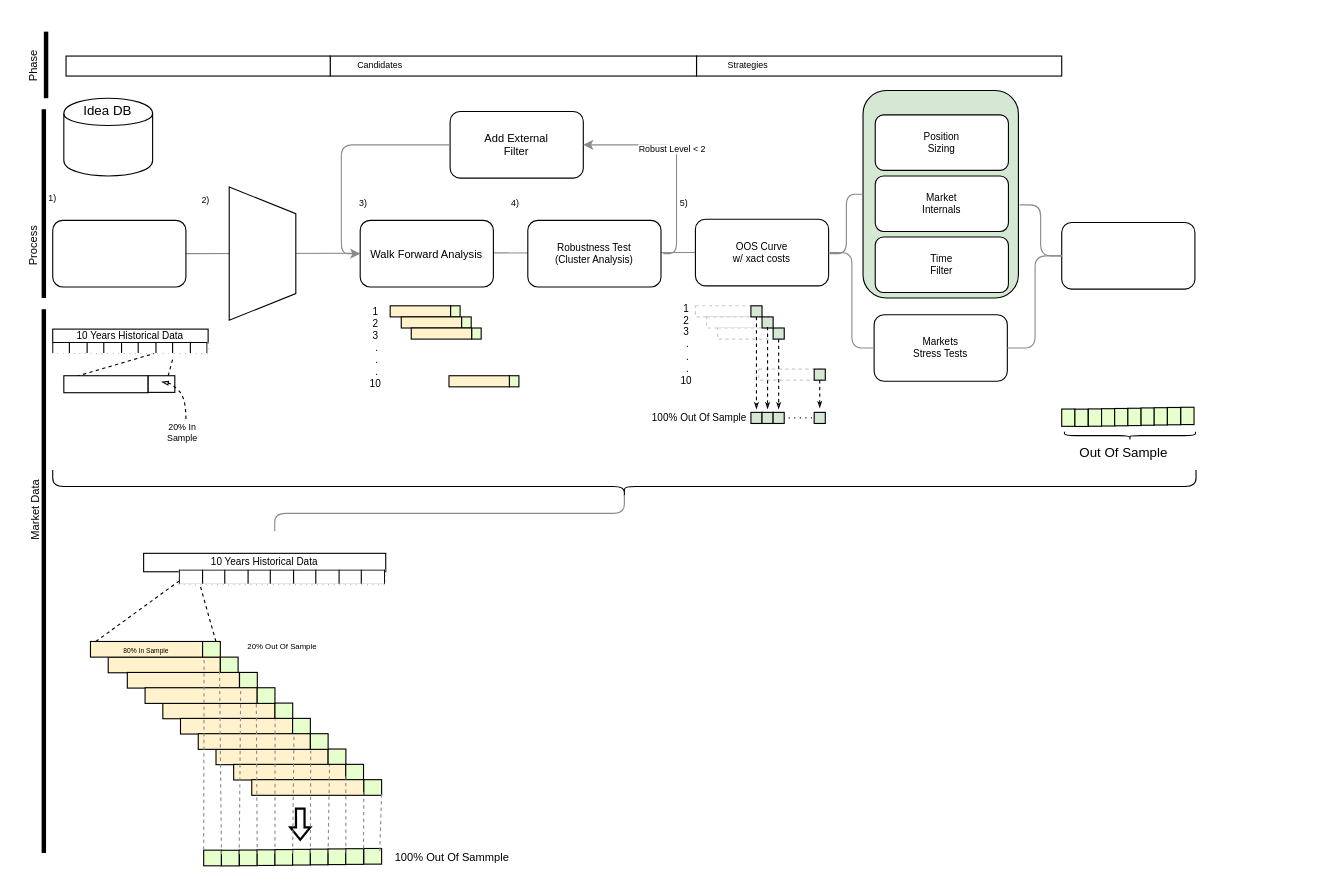
Some shapes in this 1319 by 890 pixel diagram are drawn without their labels. The shapes that lost their labels are listed below. From the top down, each one's box as (x1, y1, x2, y2) in pixels, then its label:
(65, 55, 330, 76): Prototypes
(63, 97, 153, 176): * Entries * Exits * Filtters
(862, 89, 1018, 298): External Filters
(52, 219, 186, 287): Rapid Prototyping (Genetic Algo)
(228, 186, 296, 320): In-Sample Out-Of-Sample Filter
(1061, 221, 1195, 289): Out Of Sample Tests
(63, 375, 148, 393): 80% Out Of Sample
